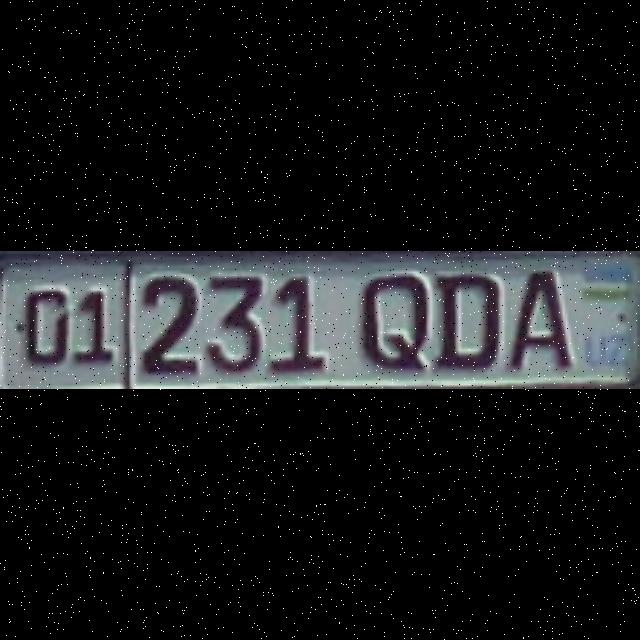0: (20, 286, 66, 360)
1: (268, 274, 322, 370), (69, 286, 109, 360)
2: (135, 272, 193, 372)
3: (205, 271, 257, 369)
A: (508, 268, 570, 366)
D: (436, 272, 498, 366)
Q: (361, 272, 427, 366)
